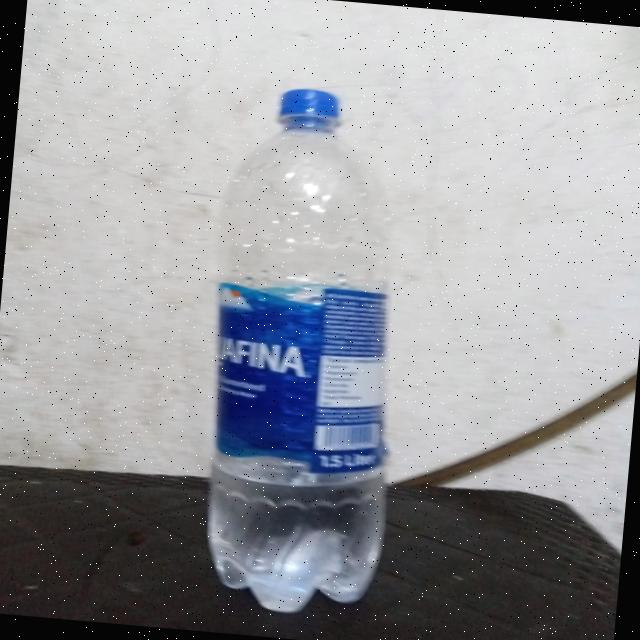bottle: (166, 51, 430, 621)
cap: (270, 84, 351, 131)
label: (188, 261, 406, 479)
